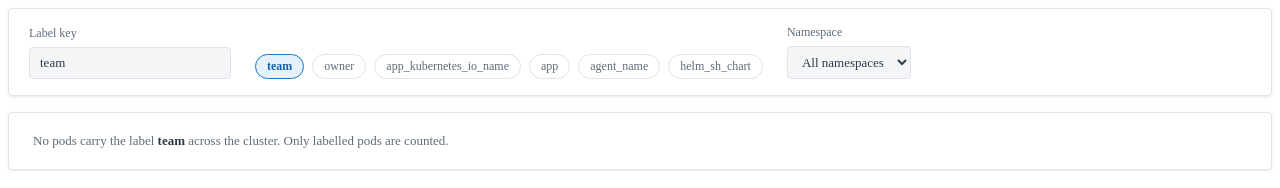
Test: ChargebackView results › says so when no pod carries the label
This screenshot has width=1280, height=188.
Step 1. Select "prometheus" in the dropdown labelled "Namespace" → (849, 62), box [787,46,911,79]
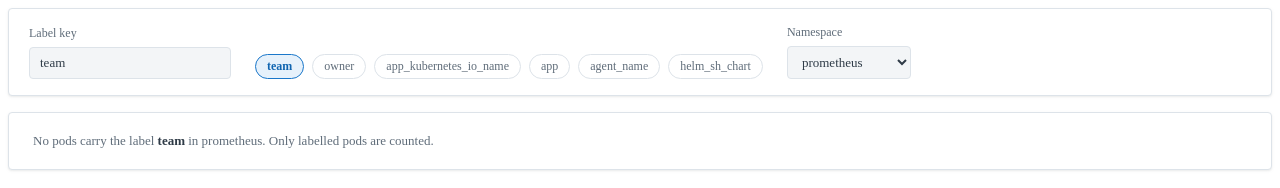
Expected: the text "No pods carry the label" shows "in prometheus", [185,133,262,148]
